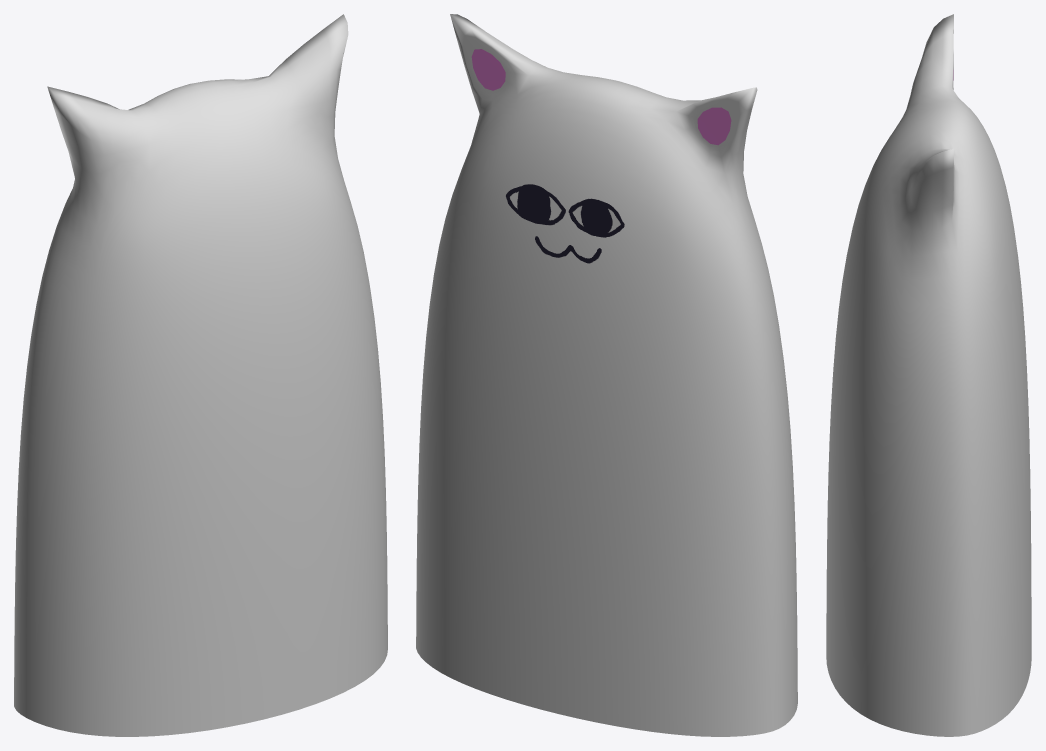
Rendered from cat.fbx.
The picture shows the model from 3 angles, left to right: view 1: azimuth 30°, elevation 25°; view 2: azimuth 150°, elevation 25°; view 3: azimuth 270°, elevation 25°; orthographic projection. The views are drawn at different scales.
Visible parts, largest first — view 1: Cube.003; view 2: Cube.003; view 3: Cube.003.
Boxes of the visible parts, x1=… form: Cube.003: x1=14, y1=14, x2=387, y2=736; Cube.003: x1=416, y1=14, x2=797, y2=736; Cube.003: x1=826, y1=14, x2=1031, y2=736.
Bounding box in the file's own units: 269 × 448 × 145.
